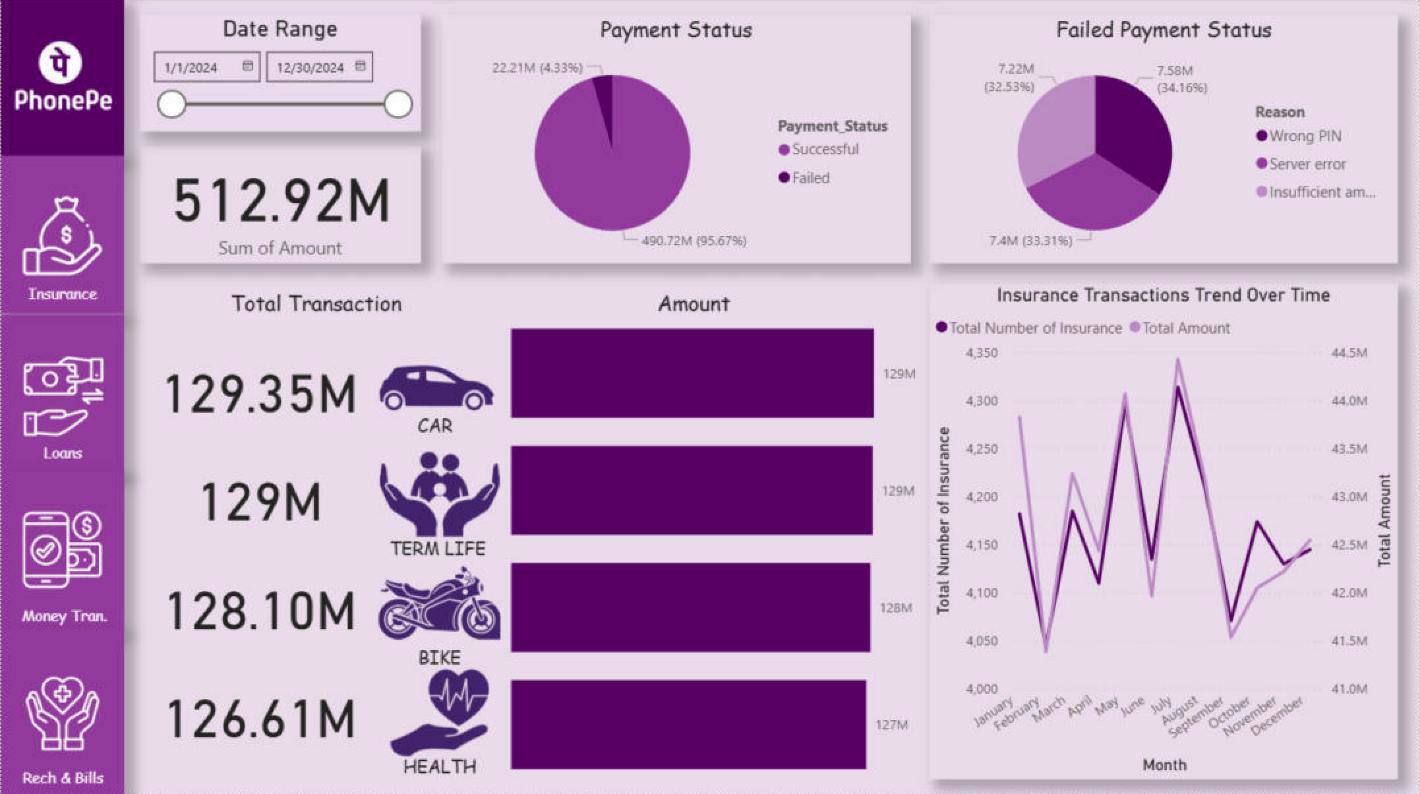

This screenshot's page, from the dashboard's own definition file:
{"tool":"powerbi","page":{"name":"Insurance","canvas":[1280,720],"ordinal":1},"visuals":[{"type":"shape","box":[0,0,111,142.4],"z":0},{"type":"shape","box":[0,142.4,111,142.4],"z":1000},{"type":"shape","box":[0,284.7,111,142.4],"z":2000},{"type":"shape","box":[0,426.1,111.6,142],"z":3000},{"type":"shape","box":[0,568.1,111.1,152.3],"z":4000},{"type":"image","box":[0,23.2,111.6,97.1],"z":5000},{"type":"image","box":[1.2,168.9,111,88.1],"z":6000},{"type":"image","box":[0,600.8,111,88.1],"z":7000},{"type":"image","box":[1.2,314.9,111,89.3],"z":8000},{"type":"image","box":[0,452.4,111,90.5],"z":9000},{"type":"textbox","box":[0,252.8,111.1,31.5],"z":10000},{"type":"textbox","box":[0,395.4,112,31.5],"z":11000},{"type":"textbox","box":[0,542.4,114.4,36.1],"z":12000},{"type":"textbox","box":[0,688.6,112,31.5],"z":13000},{"type":"slicer","title":"Date Range","fields":{"Values":["All_Transactions.Date"]},"box":[124.9,15.1,253.9,105.7],"z":14000},{"type":"card","fields":{"Values":["Sum(All_Transactions.Amount)"]},"box":[124.9,133.1,253.9,105.7],"z":15000},{"type":"card","fields":{"Values":["Sum(All_Transactions.Amount)"]},"box":[131.4,497.1,202.7,98.1],"z":15000,"group":"g3"},{"type":"pieChart","title":"Failed Payment Status","fields":{"Y":["Sum(Insurance.Premium)"],"Category":["Insurance.Reason"]},"box":[837.1,15.1,422.6,223.7],"z":16000},{"type":"card","fields":{"Values":["Sum(All_Transactions.Amount)"]},"box":[130.7,302.1,204.1,96.7],"z":16000,"group":"g3"},{"type":"pieChart","title":"Payment Status","fields":{"Category":["Insurance.Payment_Status"],"Y":["Sum(All_Transactions.Amount)"]},"box":[397.9,15.1,422.6,223.7],"z":17000},{"type":"card","fields":{"Values":["Sum(All_Transactions.Amount)"]},"box":[131.4,595.2,202.7,98.1],"z":17000,"group":"g3"},{"type":"textbox","box":[113.8,257,340.4,38.3],"z":18000},{"type":"card","fields":{"Values":["Sum(All_Transactions.Amount)"]},"box":[131.4,399,202.7,98.1],"z":18000,"group":"g3"},{"type":"actionButton","box":[0,0,111.1,140],"z":19000},{"type":"actionButton","box":[0,284,111.1,140],"z":20000},{"type":"actionButton","box":[0,426.7,110.7,139.3],"z":21000},{"type":"actionButton","box":[0,564,111.1,156.4],"z":22000},{"type":"actionButton","box":[0,140,111.1,140],"z":23000},{"type":"lineChart","title":"Insurance Transactions Trend Over Time","fields":{"Category":["Insurance.Date.Variation.Date Hierarchy.Month"],"Y":["CountNonNull(Insurance.Insurance_Type)"],"Y2":["Sum(Insurance.Premium)"]},"box":[837.1,256.6,422.6,447.3],"z":24000},{"type":"image","box":[334.8,302.1,119.1,96.8],"z":24000,"group":"g1"},{"type":"barChart","fields":{"Y":["Sum(Insurance.Premium)"],"Category":["Insurance.Insurance_Type"]},"box":[455.4,285.2,382.1,419.3],"z":25000},{"type":"image","box":[336.2,497,119.1,96.8],"z":25000,"group":"g1"},{"type":"textbox","box":[458.3,256.6,332.1,38.4],"z":26000},{"type":"group","id":"g1","title":"Group 1","box":[334.8,302.1,120.5,391.1],"z":26000,"group":"g2"},{"type":"image","box":[336.2,595.1,119.1,98.1],"z":26000,"group":"g1"},{"type":"group","id":"g2","title":"Group 3","box":[130.7,302.1,324.6,391.1],"z":27000},{"type":"image","box":[336.2,398.9,119.1,96.8],"z":27000,"group":"g1"},{"type":"group","id":"g3","title":"Group 2","box":[130.7,302.1,204.1,391.1],"z":28000,"group":"g2"},{"type":"textbox","box":[334.6,368.2,118.2,36.1],"z":28000},{"type":"textbox","box":[334.6,480.2,118.2,36.1],"z":29000},{"type":"textbox","box":[335.9,578.4,119.4,38.6],"z":30000},{"type":"textbox","box":[335.9,676.7,119.4,43.5],"z":31000}]}

Visuals, with their boxes in screenshot pixels (x1, y1, x2, y2), scaled from the page's 1280x720 canvas onto the 1420x794 screenshot:
shape: crop(0, 0, 123, 157)
shape: crop(0, 157, 123, 314)
shape: crop(0, 314, 123, 471)
shape: crop(0, 470, 124, 626)
shape: crop(0, 626, 123, 793)
image: crop(0, 26, 124, 133)
image: crop(1, 186, 124, 283)
image: crop(0, 663, 123, 760)
image: crop(1, 347, 124, 446)
image: crop(0, 499, 123, 599)
textbox: crop(0, 279, 123, 314)
textbox: crop(0, 436, 124, 471)
textbox: crop(0, 598, 127, 638)
textbox: crop(0, 759, 124, 793)
"Date Range" slicer: crop(139, 17, 420, 133)
card - Sum(All_Transactions.Amount): crop(139, 147, 420, 263)
card - Sum(All_Transactions.Amount): crop(146, 548, 371, 656)
"Failed Payment Status" pieChart: crop(929, 17, 1397, 263)
card - Sum(All_Transactions.Amount): crop(145, 333, 371, 440)
"Payment Status" pieChart: crop(441, 17, 910, 263)
card - Sum(All_Transactions.Amount): crop(146, 656, 371, 765)
textbox: crop(126, 283, 504, 326)
card - Sum(All_Transactions.Amount): crop(146, 440, 371, 548)
actionButton: crop(0, 0, 123, 154)
actionButton: crop(0, 313, 123, 468)
actionButton: crop(0, 471, 123, 624)
actionButton: crop(0, 622, 123, 793)
actionButton: crop(0, 154, 123, 309)
"Insurance Transactions Trend Over Time" lineChart: crop(929, 283, 1397, 776)
image: crop(371, 333, 504, 440)
barChart - Sum(Insurance.Premium) x Insurance.Insurance_Type: crop(505, 315, 929, 777)
image: crop(373, 548, 505, 655)
textbox: crop(508, 283, 877, 325)
"Group 1" group: crop(371, 333, 505, 764)
image: crop(373, 656, 505, 764)
"Group 3" group: crop(145, 333, 505, 764)
image: crop(373, 440, 505, 547)
"Group 2" group: crop(145, 333, 371, 764)
textbox: crop(371, 406, 502, 446)
textbox: crop(371, 530, 502, 569)
textbox: crop(373, 638, 505, 680)
textbox: crop(373, 746, 505, 793)
